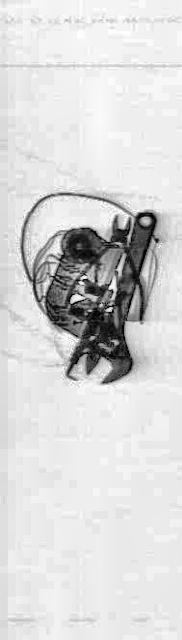Pliers: (63, 190, 147, 340)
Wrench: (82, 157, 162, 441)
